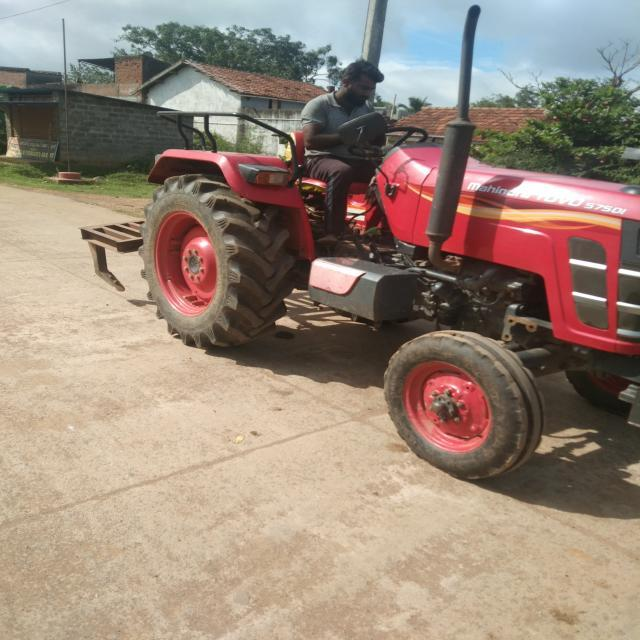Tratores - v5 YOLO V8L 2024-11-13: (139, 2, 640, 493)
